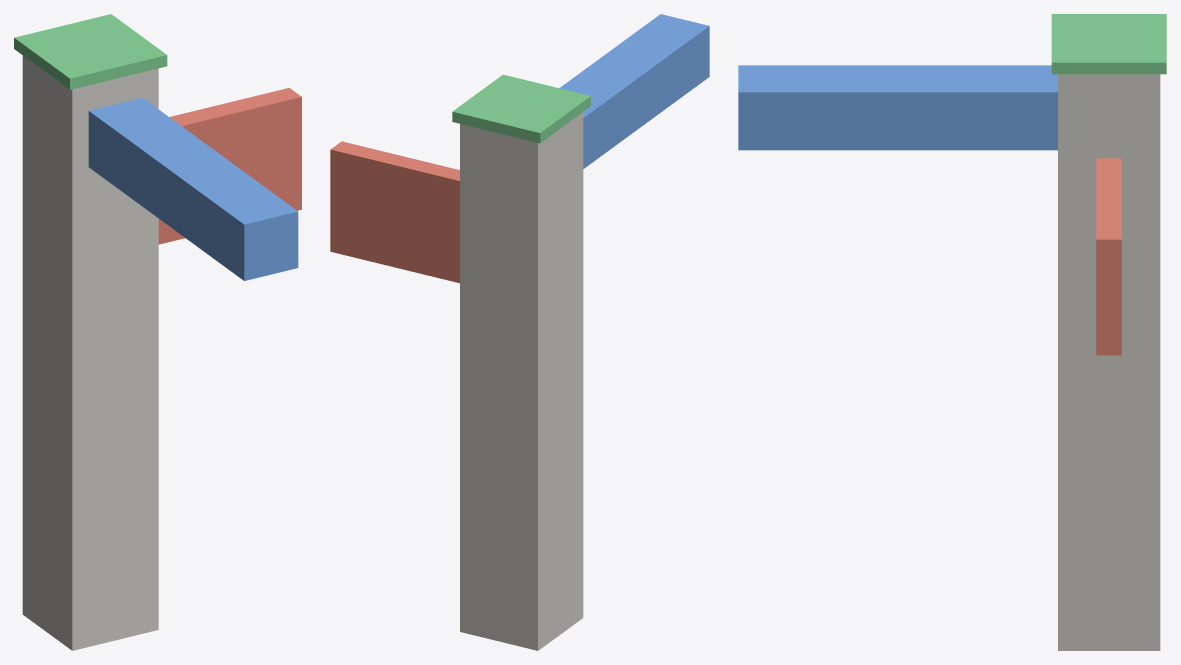
File: arrow_front_z.glb
3 views of the same model, side by side, from view 1: azimuth 30°, elevation 25°; view 2: azimuth 150°, elevation 25°; view 3: azimuth 270°, elevation 25° (orthographic). The views are drawn at different scales.
Parts seen in each view (by area): view 1: root; view 2: root; view 3: root.
Boxes of the visible parts, box(x1,y1,x2,y2) form: root: box(14, 14, 301, 650); root: box(330, 14, 709, 650); root: box(738, 14, 1166, 650).
Size of the model in its own units: 0.47 by 1.02 by 0.67.
